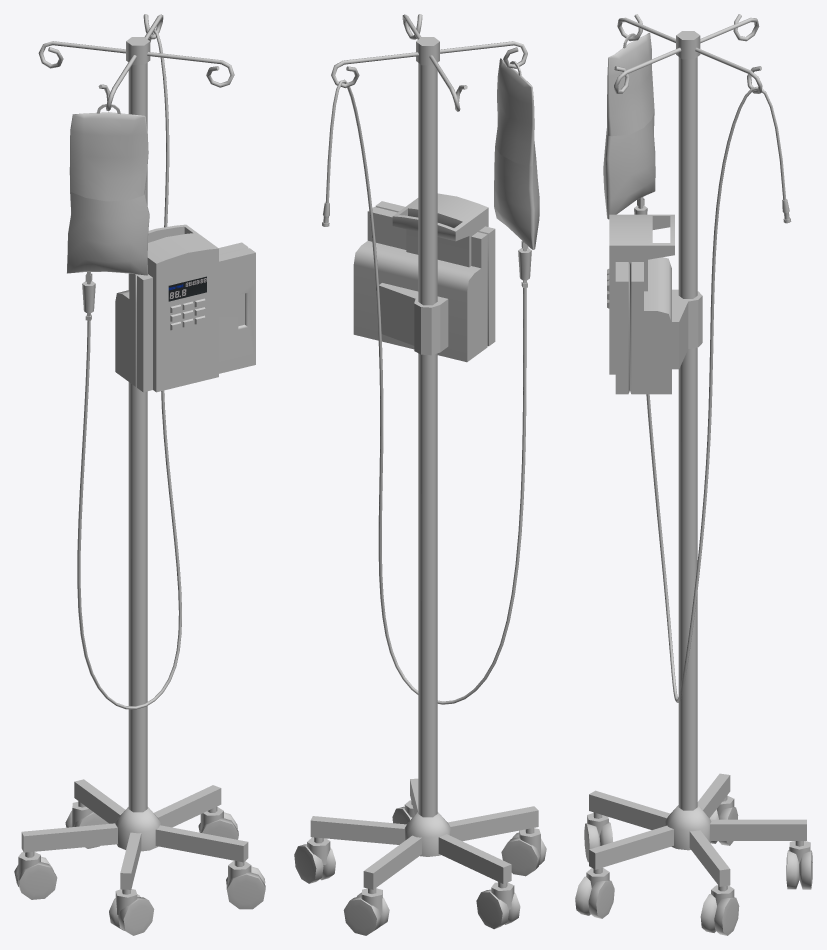
File: Infusion_Pumo_02.fbx
3 views of the same model, side by side, from view 1: azimuth 30°, elevation 25°; view 2: azimuth 150°, elevation 25°; view 3: azimuth 270°, elevation 25° (orthographic).
Visible parts, largest first — view 1: Infusion_Pumo_02; view 2: Infusion_Pumo_02; view 3: Infusion_Pumo_02.
Boxes of the visible parts, bbox=[...] form: Infusion_Pumo_02: bbox=[14, 14, 265, 935]; Infusion_Pumo_02: bbox=[294, 14, 546, 935]; Infusion_Pumo_02: bbox=[575, 14, 812, 935].
Bounding box in the file's own units: 45.64 × 42.19 × 166.
